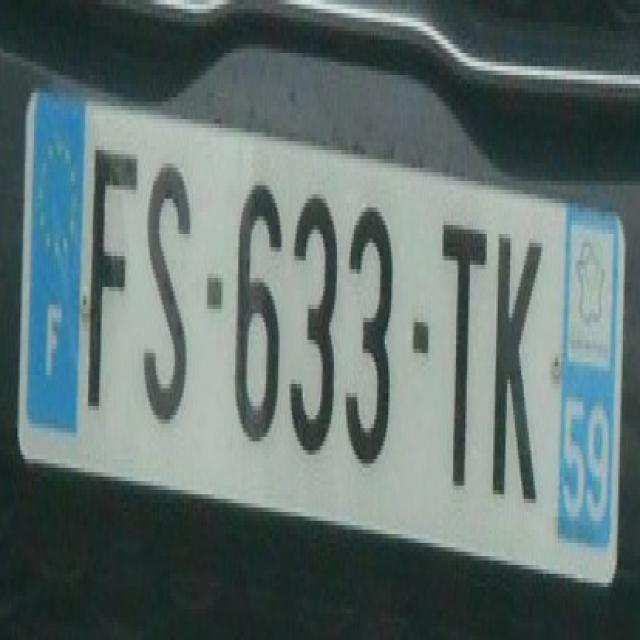EU: (17, 92, 628, 583)
France: (20, 96, 88, 450)
